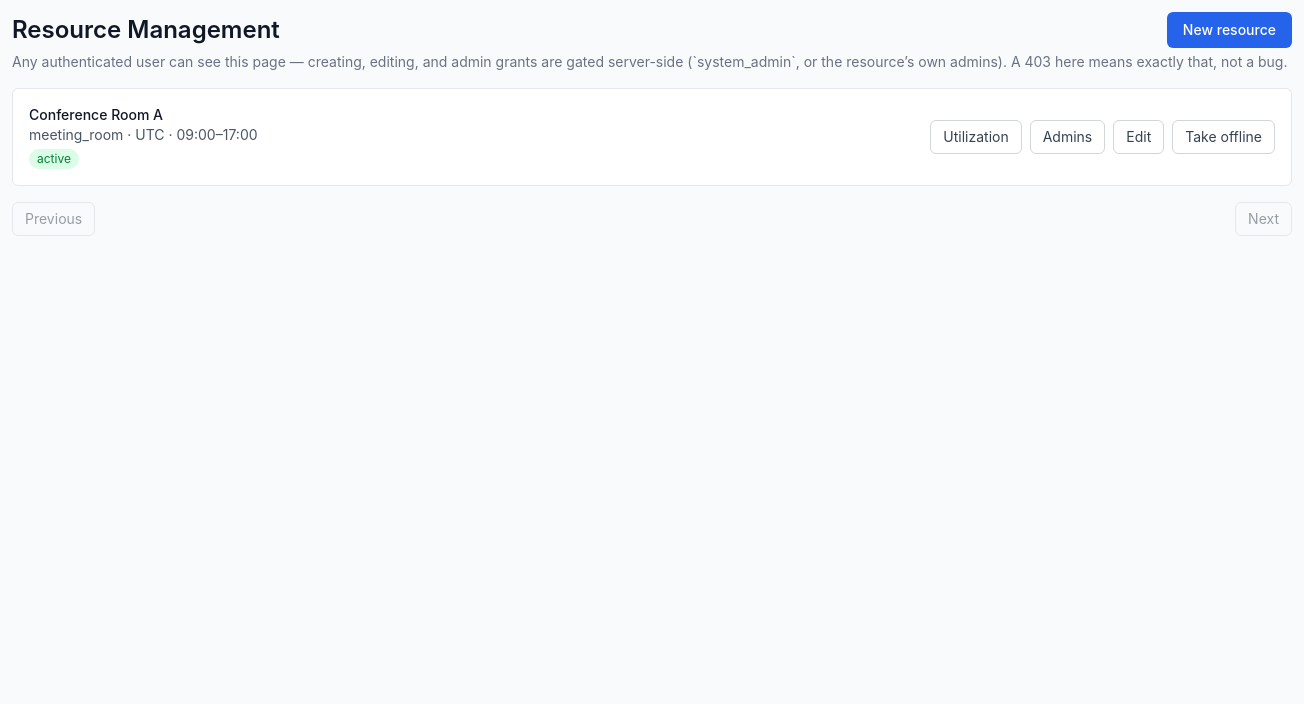
Test: ResourceManagementPage › shows a specific permission-denied message on create, not a generic error, and leaves the form open
Expected: the text "Conference Room A" is shown, [29, 106, 163, 123]
Click the button "New resource" at (1229, 30), box [1167, 12, 1292, 48]
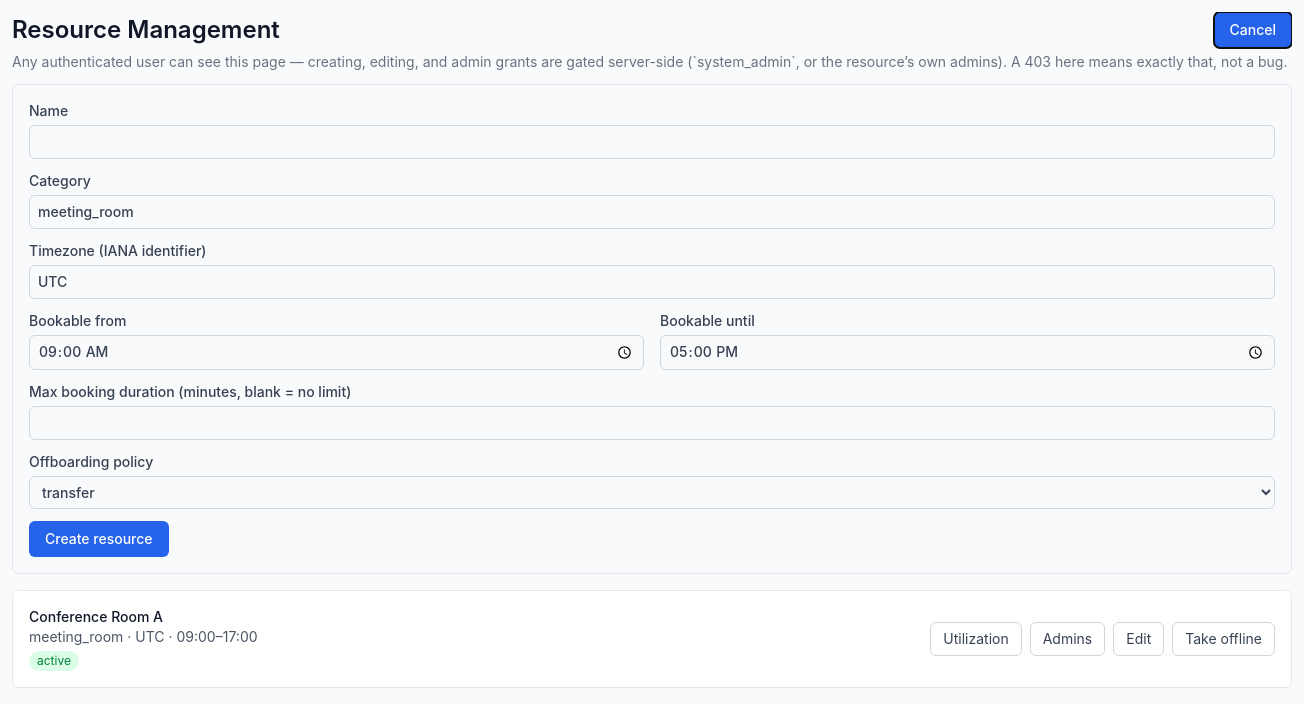
Type "Room C" into the field labelled "Name" at (652, 142), box [29, 125, 1275, 159]
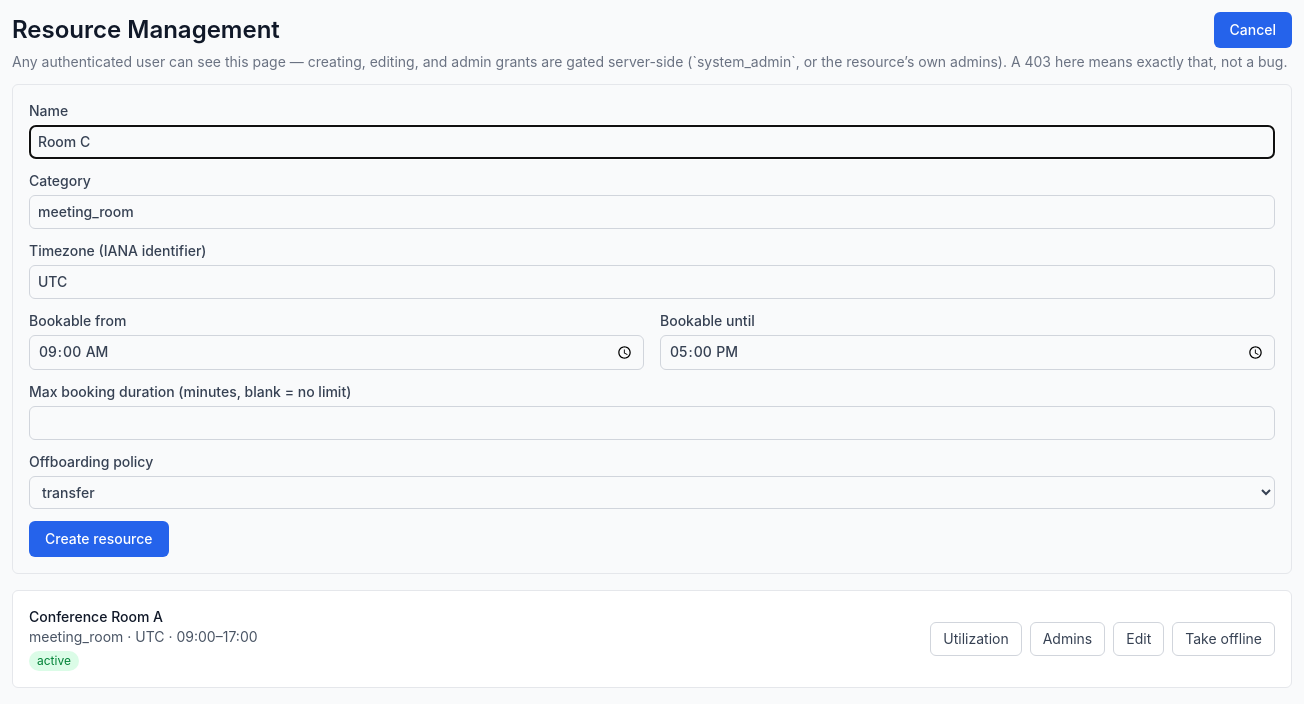
Click the button "Create resource" at (99, 539), box [29, 521, 169, 557]
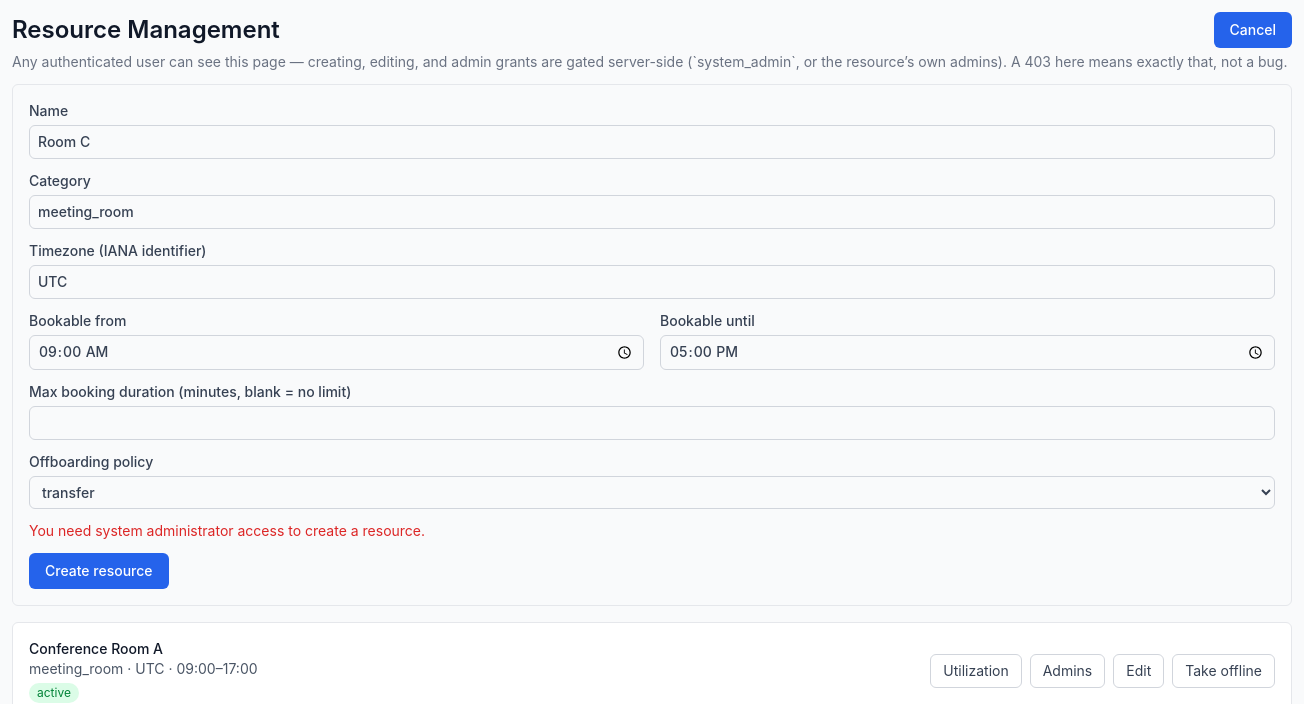
Expected: the button "Create resource" is shown, [29, 553, 169, 589]
Expected: the text "You need system administrator access to create a resource." is shown, [29, 522, 425, 539]
